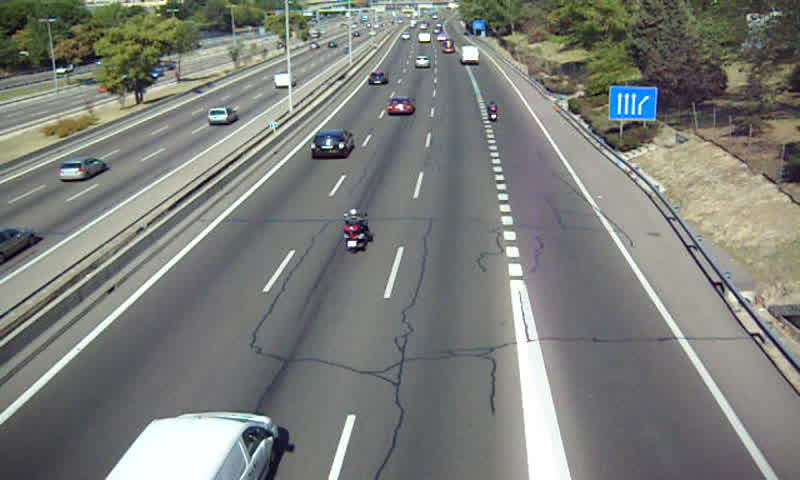car: (308, 129, 354, 158), (386, 97, 414, 115), (366, 70, 389, 85), (413, 55, 429, 69)
motorcycle: (340, 208, 370, 254), (487, 100, 499, 123)
van: (105, 411, 278, 480), (460, 44, 480, 64)
